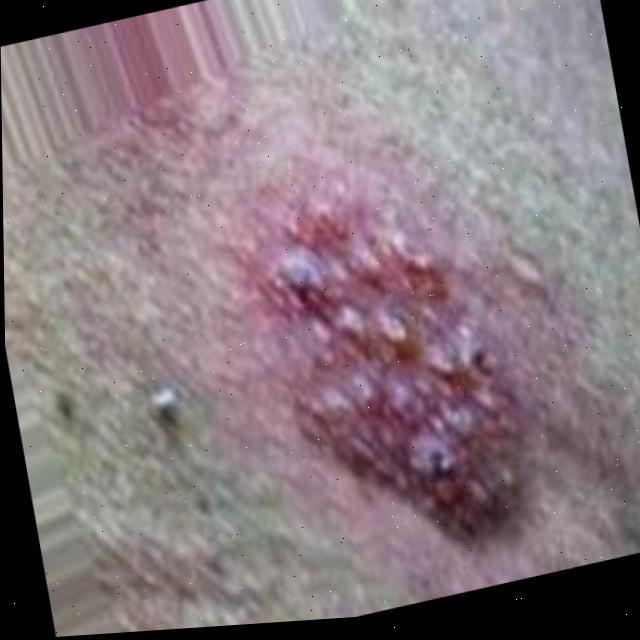Shingles: (274, 184, 537, 567)
